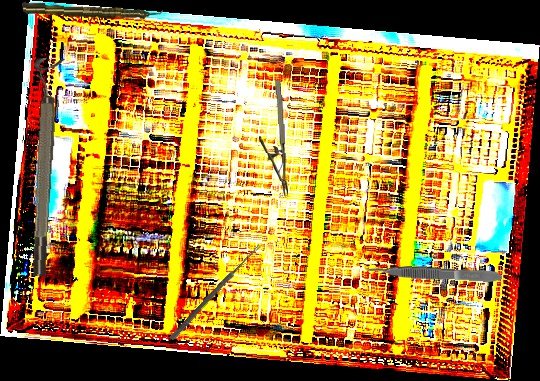Fixation Ring: (19, 57, 65, 277)
Handpiece: (21, 1, 164, 22)
Needle Holder: (256, 79, 289, 198)
Surgical Spoon: (169, 242, 262, 342)
Tissue Forceps: (364, 261, 503, 285)
